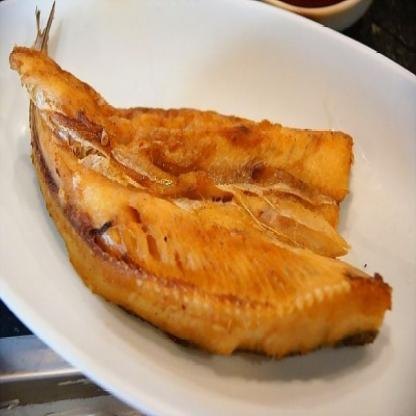Peixe: (0, 25, 383, 380)
